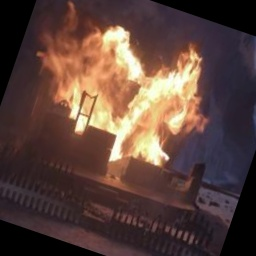fire: (32, 0, 232, 178)
